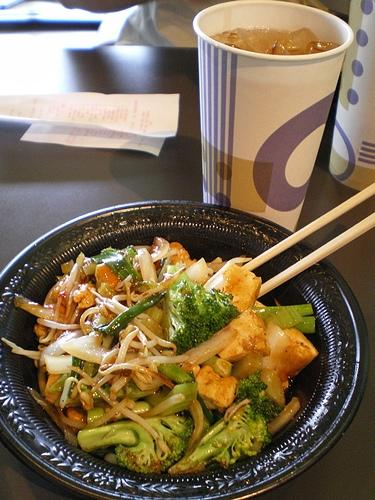broccoli: (77, 410, 195, 475), (162, 272, 238, 355), (187, 404, 273, 468), (235, 369, 283, 422), (252, 304, 314, 334), (87, 401, 153, 425), (158, 364, 193, 384)
